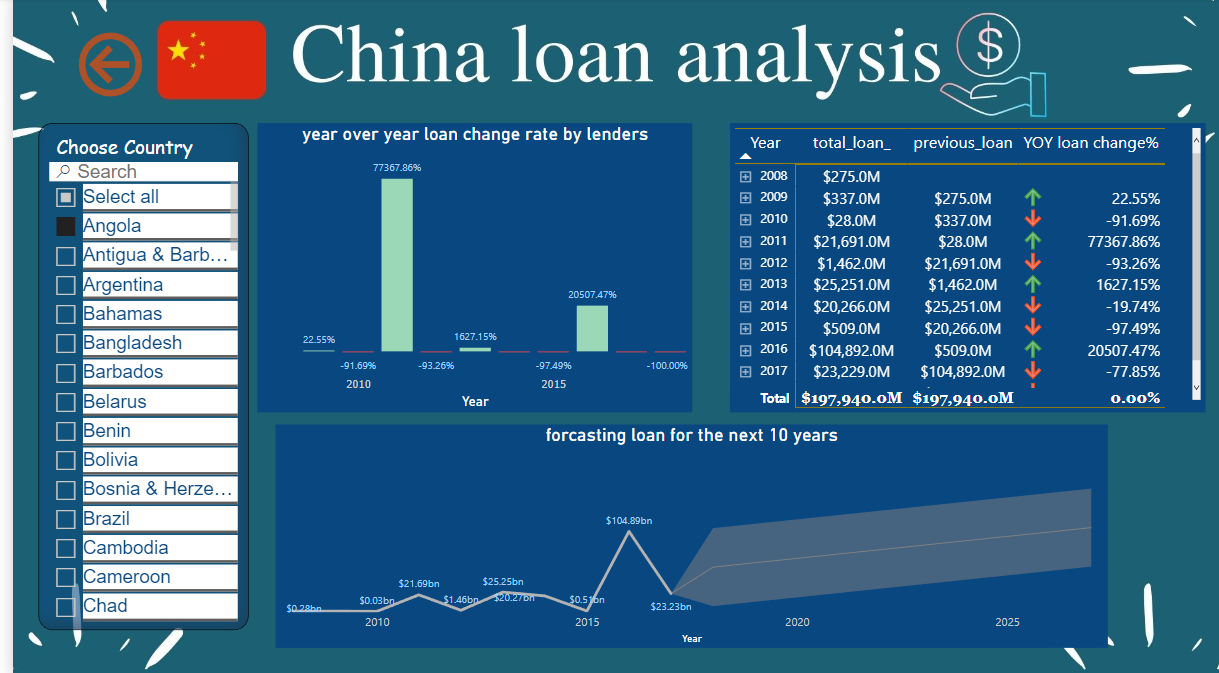

The dashboard page shown, as its layout file describes it:
{"tool":"powerbi","page":{"name":"yoy","canvas":[1280,720],"ordinal":3},"visuals":[{"type":"clusteredColumnChart","title":"year over year loan change rate by lenders","fields":{"Y":["Calculated_fields.YOY loan change"],"Category":["china_loan_transformed.YEAR.Variation.Date Hierarchy.Year"]},"box":[275,451.4,460.9,236.8],"z":0},{"type":"slicer","fields":{"Values":["china_loan_transformed.Country"]},"box":[0,112.8,249.5,534],"z":1000},{"type":"scatterChart","fields":{"X":["Calculated_fields.previous_loan"],"Y":["Calculated_fields.total_loan_"],"Category":["china_loan_transformed.YEAR.Variation.Date Hierarchy.Year"]},"box":[275,114.4,476.8,317.9],"z":2000},{"type":"lineChart","title":"forcasting loan for the next 10 years","fields":{"Category":["china_loan_transformed.YEAR.Variation.Date Hierarchy.Year"],"Y":["Calculated_fields.total_loan_"]},"box":[751.8,451.4,503.8,236.8],"z":3000},{"type":"pivotTable","fields":{"Rows":["china_loan_transformed.YEAR.Variation.Date Hierarchy.Year","china_loan_transformed.LENDER"],"Values":["Calculated_fields.total_loan_","Calculated_fields.previous_loan","Calculated_fields.YOY loan change%"]},"box":[766.1,112.8,513.4,338.5],"z":4000},{"type":"actionButton","box":[55.8,38.6,58.7,42.9],"z":5001}]}

Visuals, with their boxes in screenshot pixels (x1, y1, x2, y2), scaled from the page's 1280x720 canvas onto the 1219x673 screenshot:
"year over year loan change rate by lenders" clusteredColumnChart: region(262, 422, 701, 643)
slicer - china_loan_transformed.Country: region(0, 105, 238, 605)
scatterChart - Calculated_fields.previous_loan x Calculated_fields.total_loan_: region(262, 107, 716, 404)
"forcasting loan for the next 10 years" lineChart: region(716, 422, 1196, 643)
pivotTable - china_loan_transformed.YEAR.Variation.Date Hierarchy.Year x china_loan_transformed.LENDER: region(730, 105, 1218, 422)
actionButton: region(53, 36, 109, 76)
